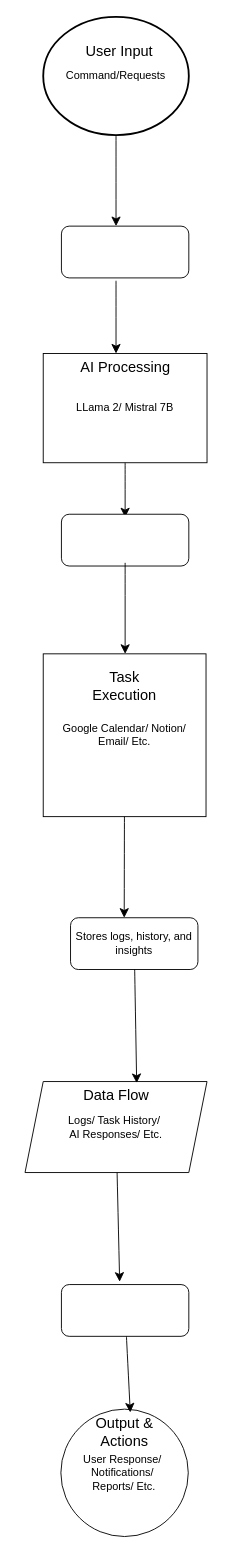
Some shapes in this 231 by 1552 pixel diagram are drawn without their labels. The centre of each missing label's shape, as x and y in pixels:
Processes request and selects action: point 125,539
Receives Command/ Request: point 125,251
Sends confirmation & Feedback: point 125,1310
